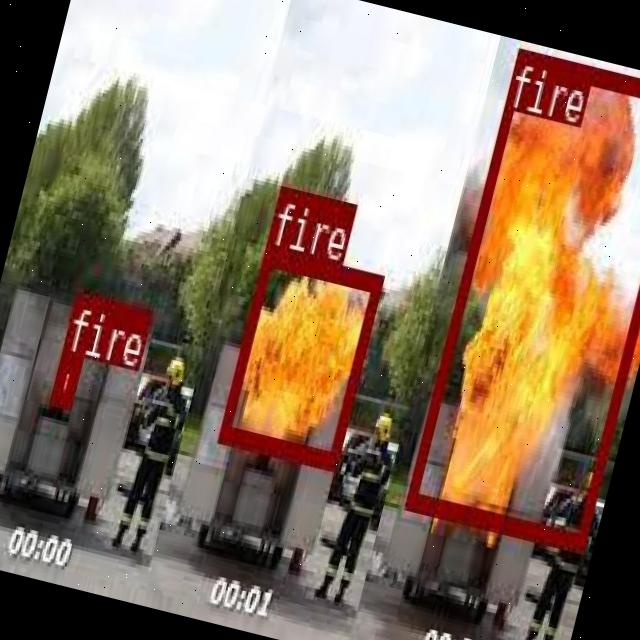fire: (405, 47, 640, 546), (217, 245, 383, 466), (49, 348, 82, 405)
